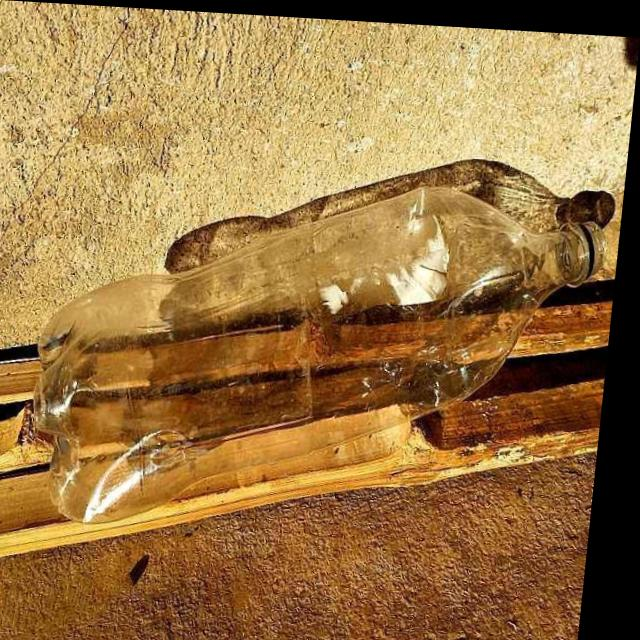Non-biodegradable: (8, 109, 632, 572)
